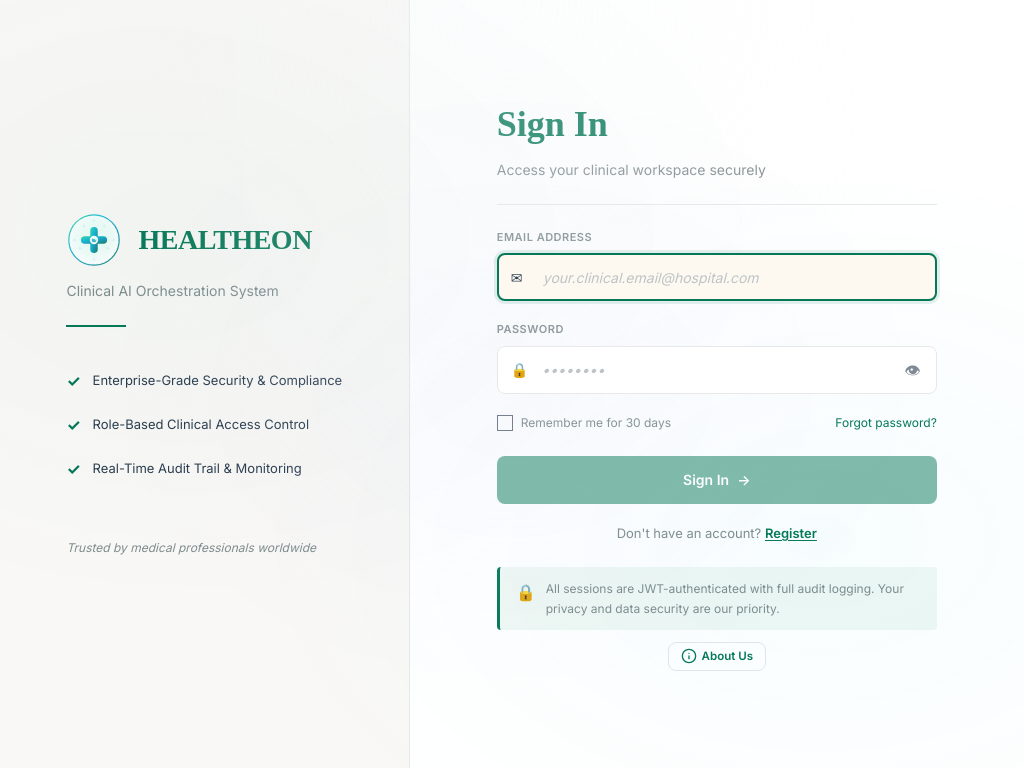
it: LoginScreen › enables submit when both fields are filled
In the field with placeholder "your.clinical.email@hospital.com": (717, 277) [497,253,937,301], type "a@b.com"
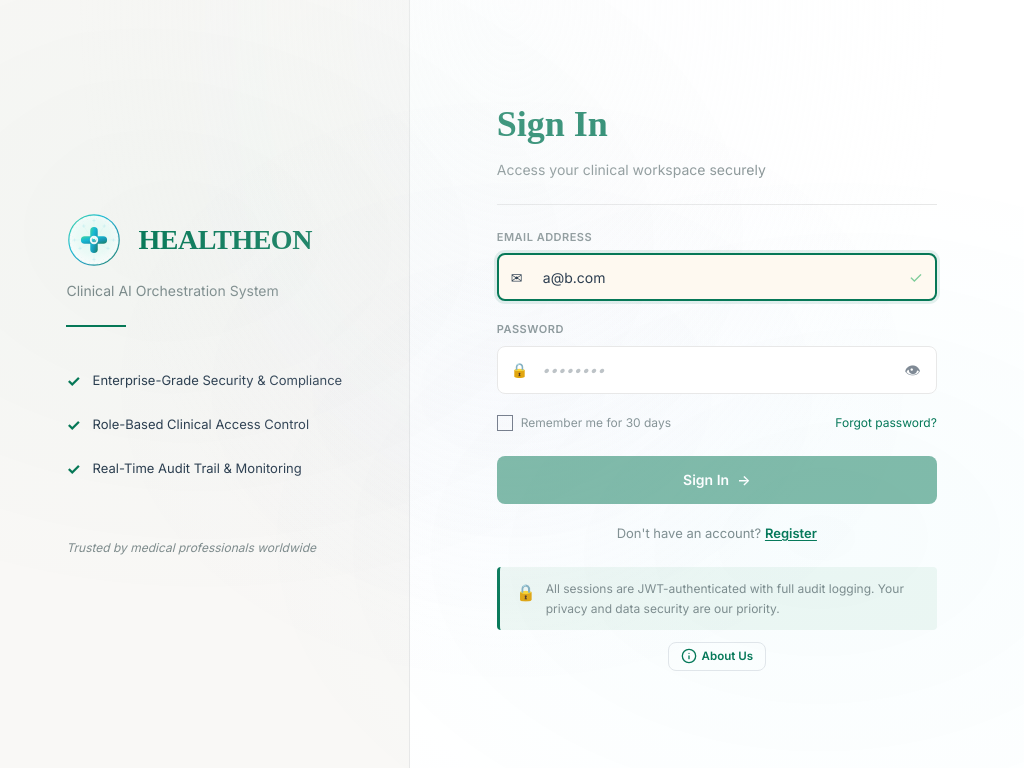
In the password field with placeholder "••••••••": (717, 370) [497,346,937,394], type "pass123"
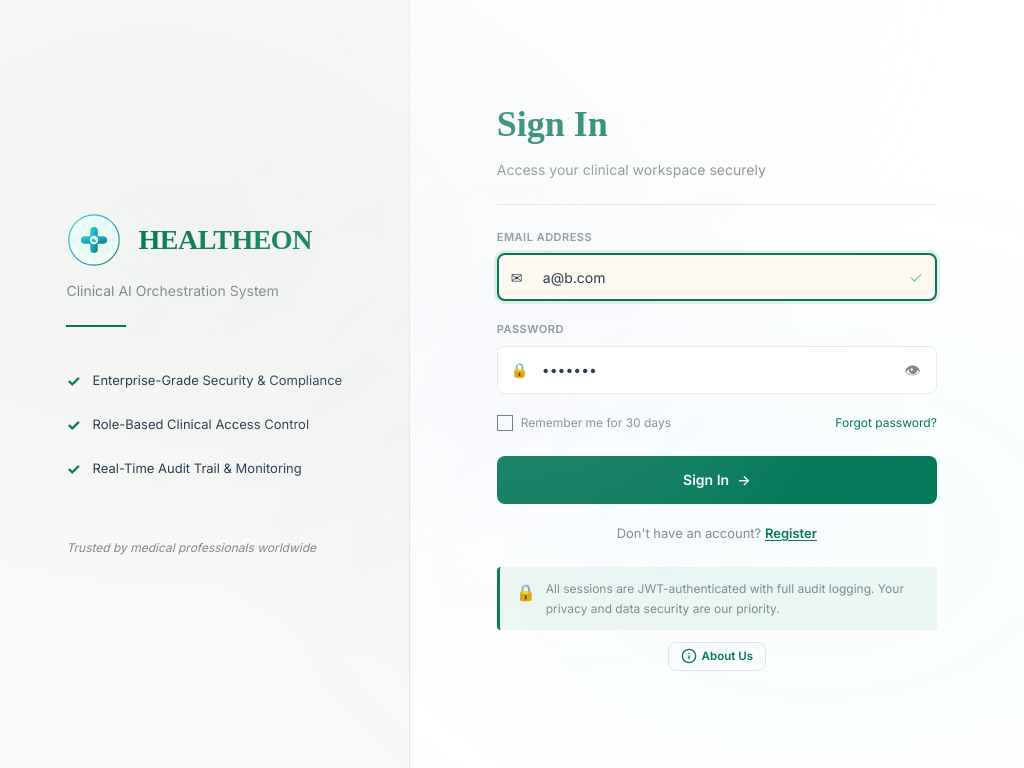
Expected: the button "Sign In →" is enabled, [497,456,937,504]
